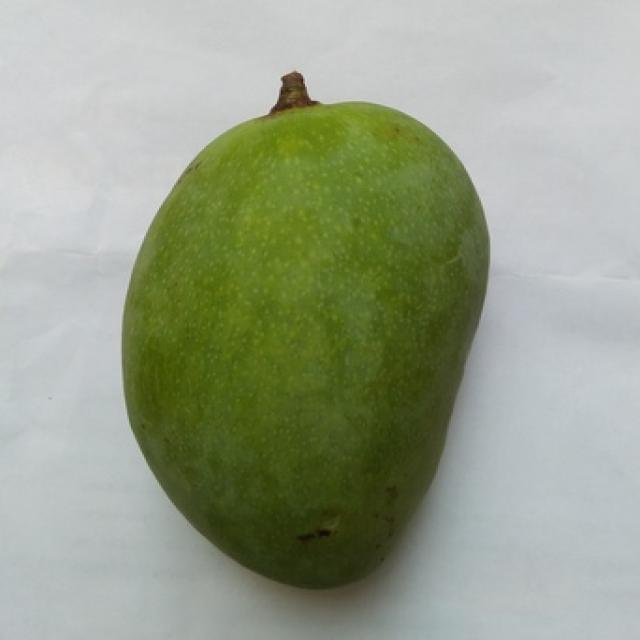Mango: (122, 73, 488, 587)
